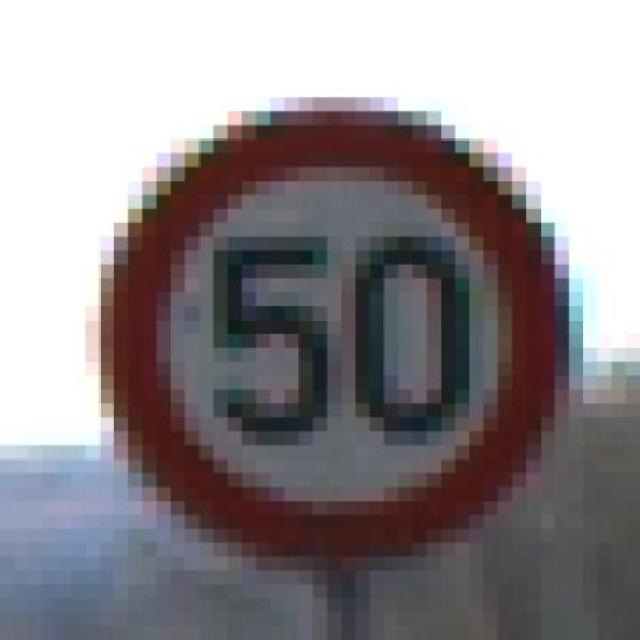50 mph speed limit: (71, 69, 597, 571)
